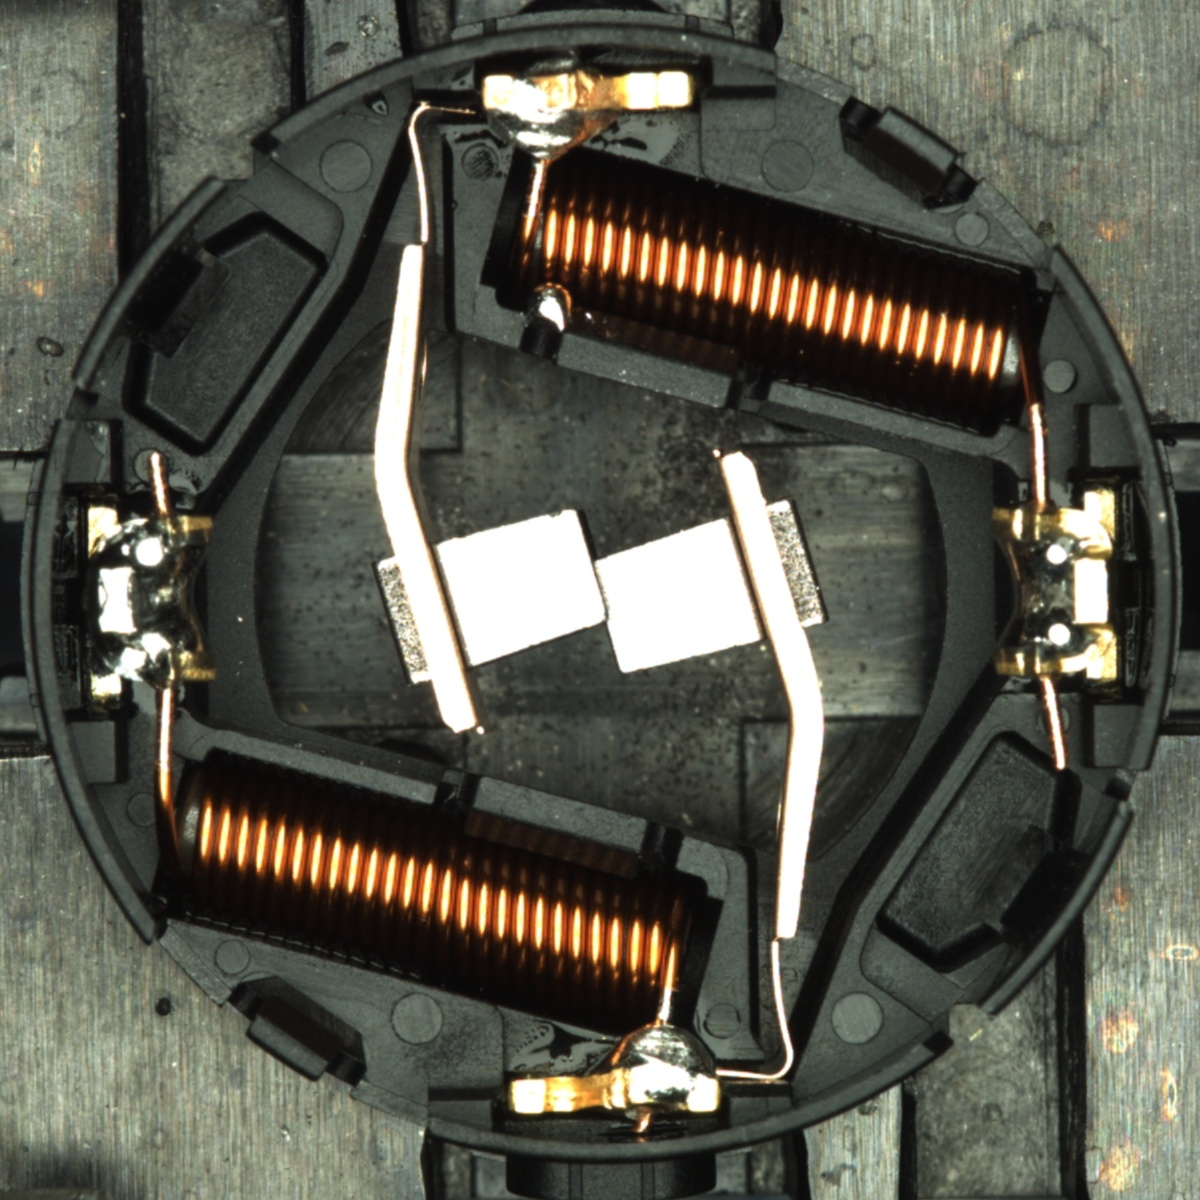1: (253, 30, 482, 254), (712, 927, 941, 1152)
2: (253, 927, 482, 1152), (712, 30, 941, 254)
3: (24, 254, 253, 479), (941, 703, 1170, 927)
4: (253, 254, 482, 479), (712, 703, 941, 927)
5: (482, 815, 712, 1040)
6: (712, 254, 941, 479), (253, 703, 482, 927)
7: (941, 254, 1170, 479), (24, 703, 253, 927)
cacbon: (401, 497, 793, 685)
chau_dien: (82, 498, 221, 699), (984, 489, 1124, 687)
hat_chi: (529, 282, 574, 334)
tay_choi: (481, 68, 697, 168), (508, 1020, 722, 1116)
thanh_de: (955, 788, 1142, 1031), (59, 163, 245, 405)
